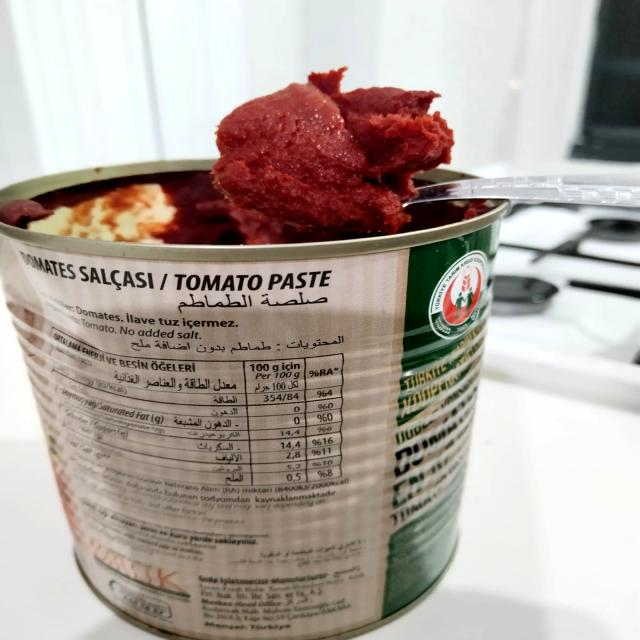tomato paste: (152, 63, 493, 284)
